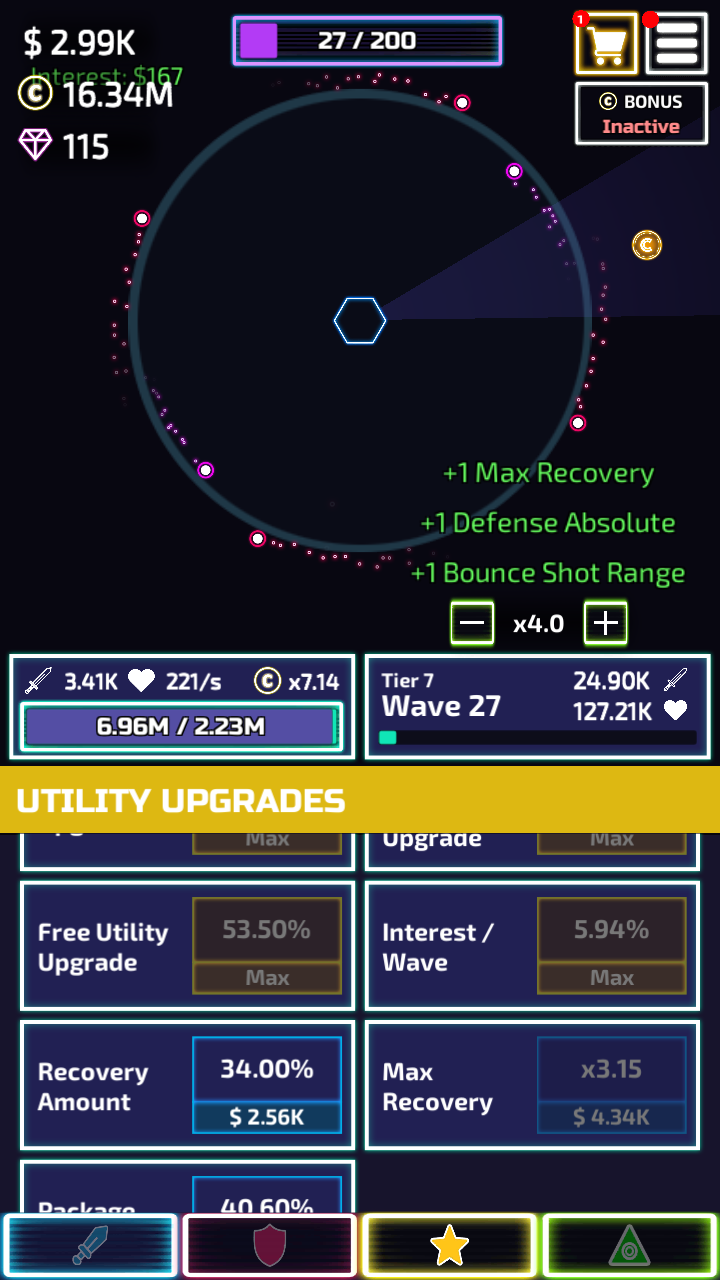B_Menu_Action_Required: (637, 6, 703, 72)
B_Menu_Closed: (573, 9, 707, 74)
B_Slot: (363, 881, 694, 1006), (19, 882, 353, 1004), (19, 1022, 352, 1142), (364, 1023, 696, 1141), (362, 1153, 703, 1208), (20, 1161, 351, 1214), (364, 828, 704, 865), (14, 829, 353, 866)
B_Slot_Button: (188, 1038, 344, 1136), (534, 1037, 688, 1136), (189, 898, 344, 995), (533, 900, 688, 995), (185, 1173, 346, 1218), (533, 826, 696, 853), (187, 826, 347, 853)
B_Slot_Label: (22, 914, 174, 982), (369, 1056, 510, 1124), (22, 1056, 163, 1121), (369, 915, 508, 979), (373, 818, 489, 857), (27, 1189, 145, 1217)
B_Slot_Maxed: (187, 894, 344, 997), (532, 896, 683, 997)
B_Slot_Price: (211, 1098, 314, 1134), (557, 1099, 661, 1133)
B_Slot_Value: (195, 1183, 331, 1218), (204, 1048, 324, 1085), (203, 910, 326, 946), (551, 910, 664, 949), (556, 1051, 659, 1087)
B_Tab_Utility: (0, 767, 720, 845)
